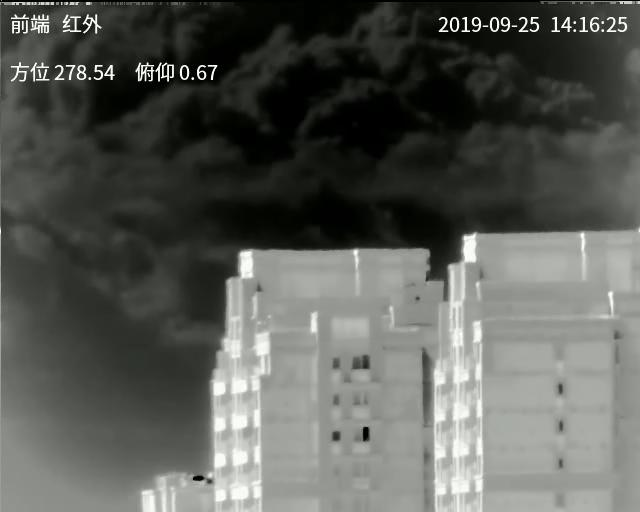uav: (248, 311, 275, 333)
